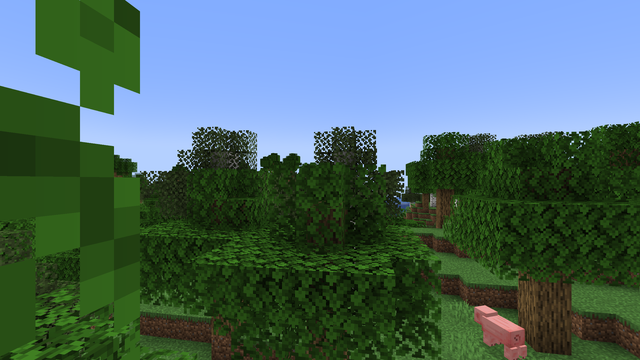cochons: (481, 313, 525, 359)
